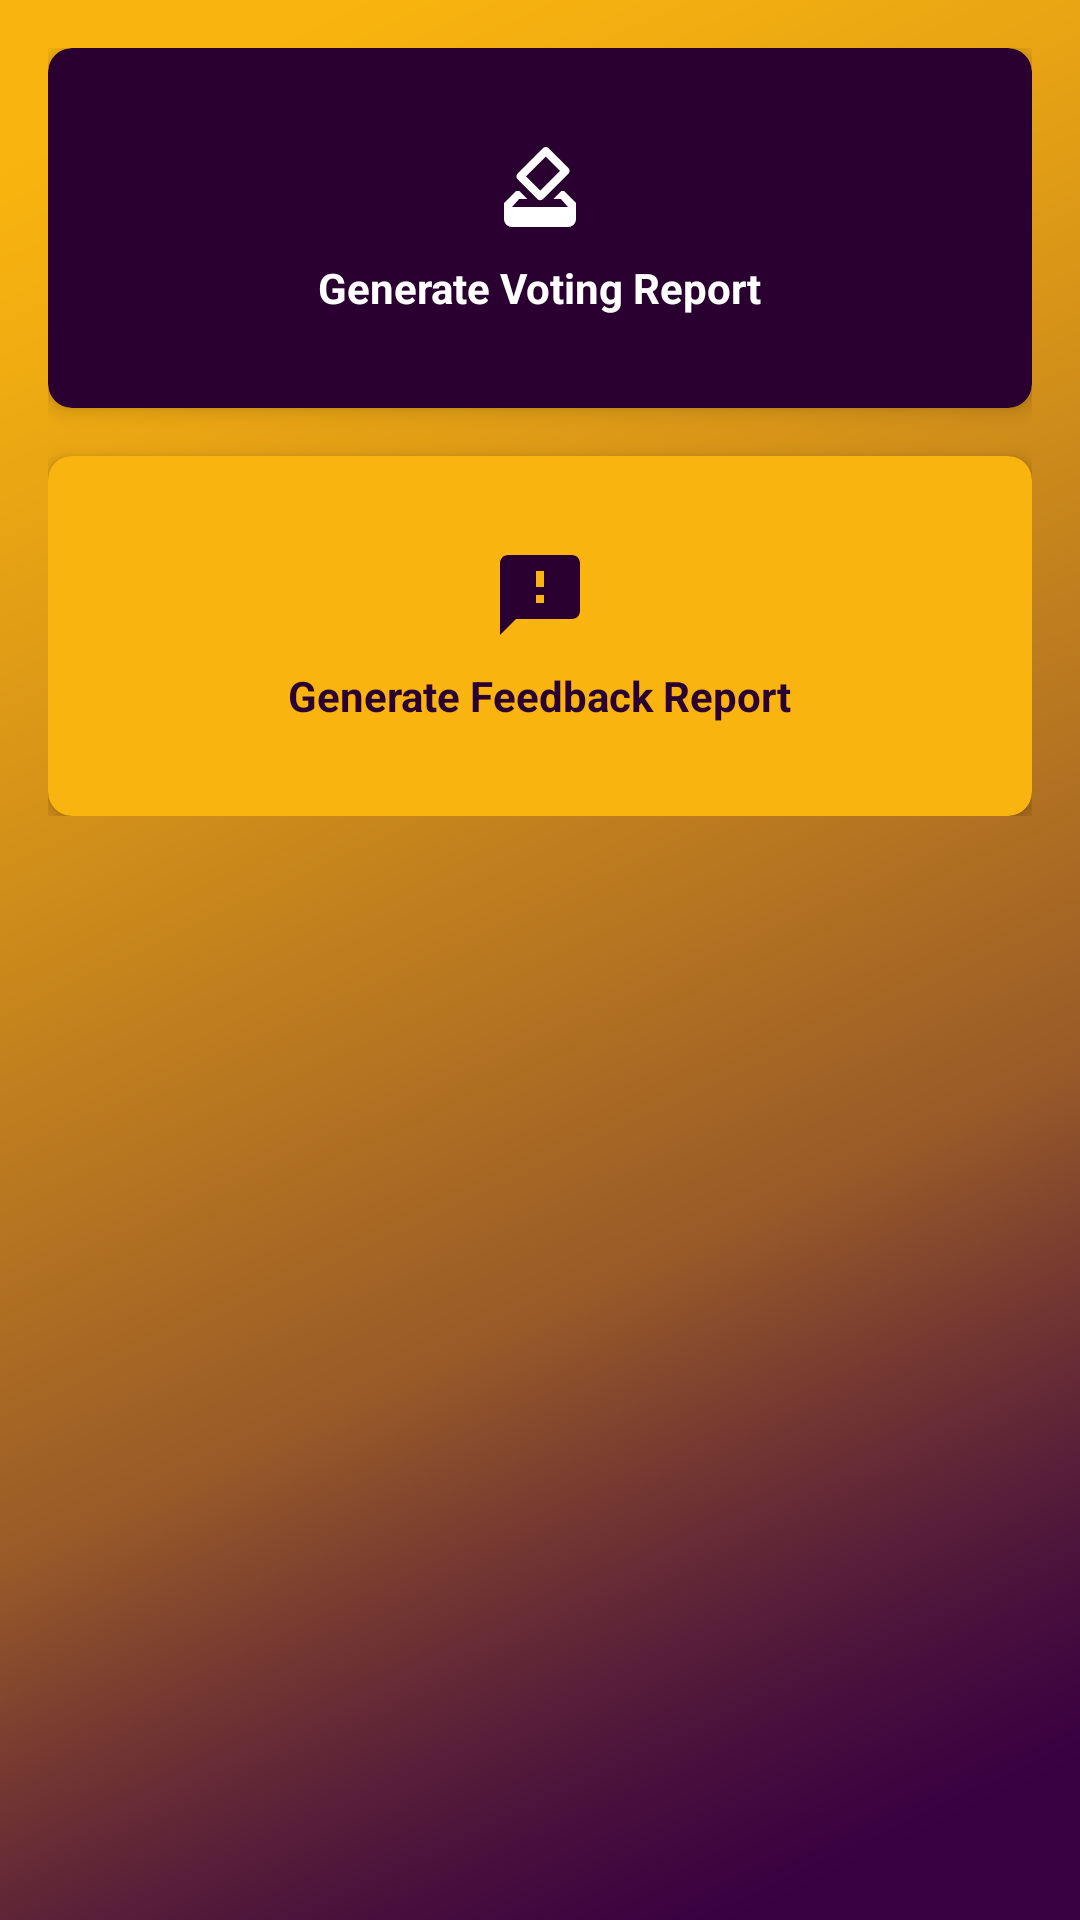

Named icons in this screenshot (1080×1920) and their centers, (x=x, y=y):
how to vote: (x=540, y=187)
